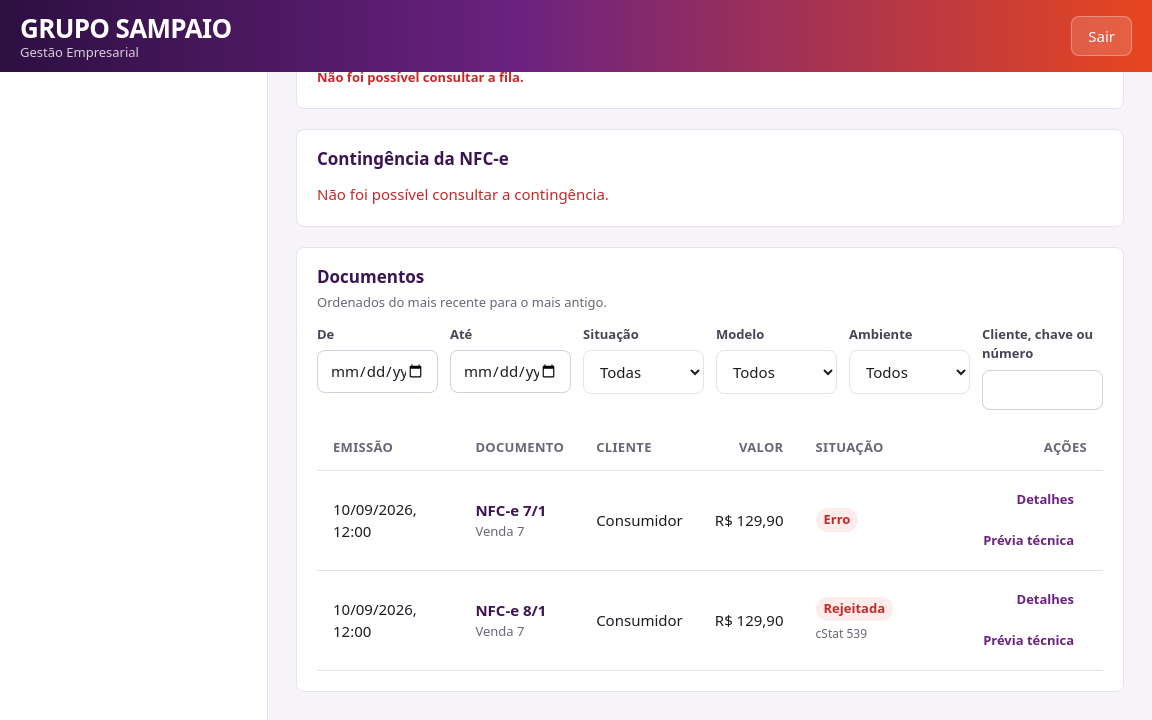
Test: o detalhe diz quem recusou › rejeição da SEFAZ (com cStat) continua sendo retorno da SEFAZ
The width and height of the screenshot is (1152, 720).
(page scrolled)
Click the 2nd button "Detalhes".
click(1045, 599)  # box [1004,582,1087,616]
(page scrolled)
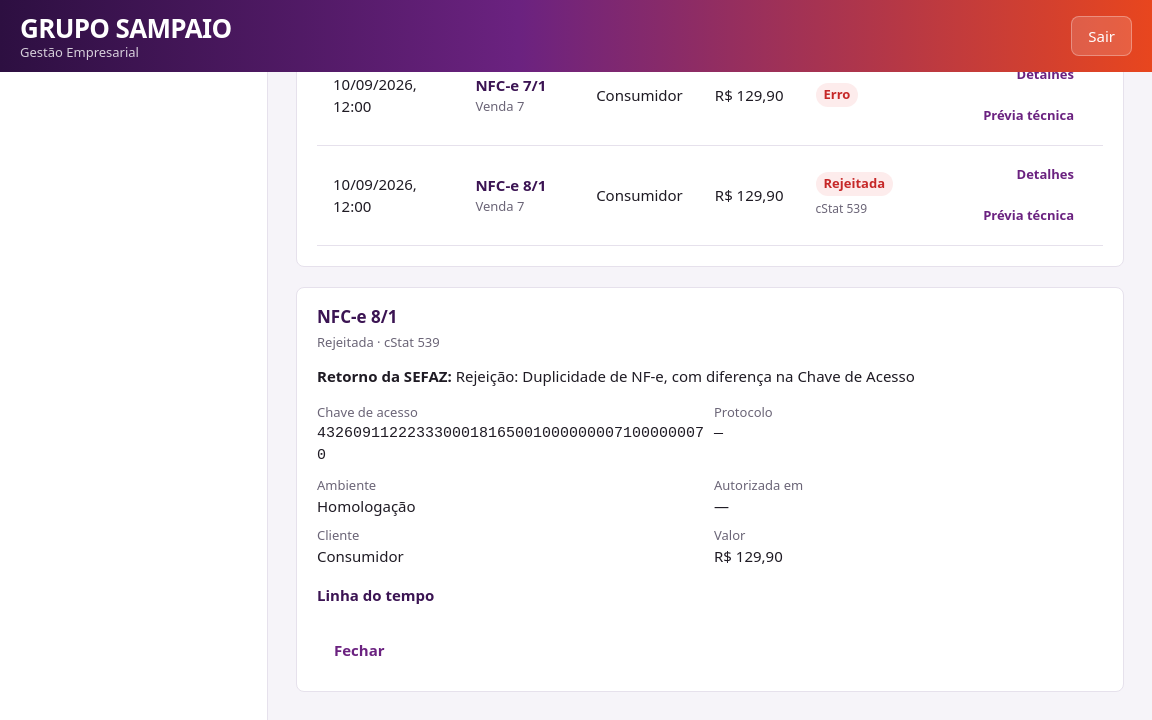
Check: the text "Retorno da SEFAZ:" is shown, box [317,366,452,386]
Check: the text "Duplicidade de NF-e" is shown, box [456,366,915,386]
